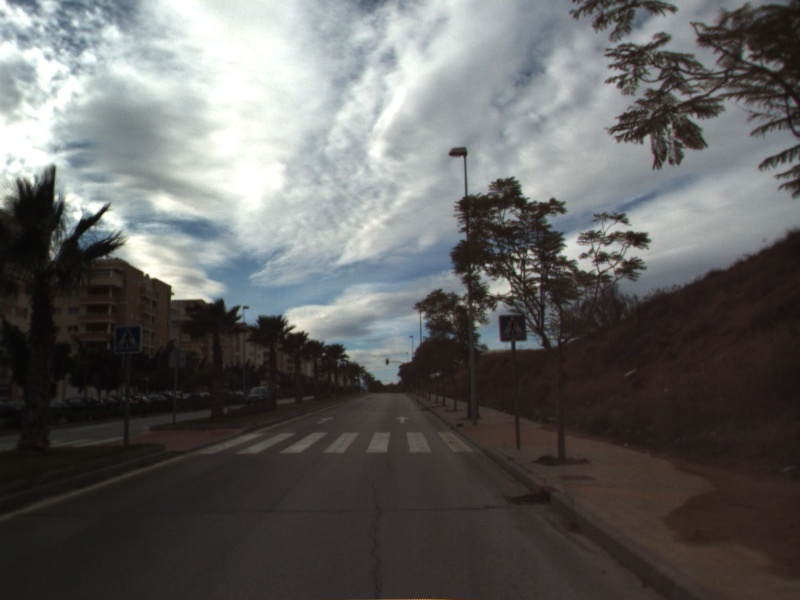STRAIGHT: (315, 414, 336, 426), (393, 414, 411, 425)
